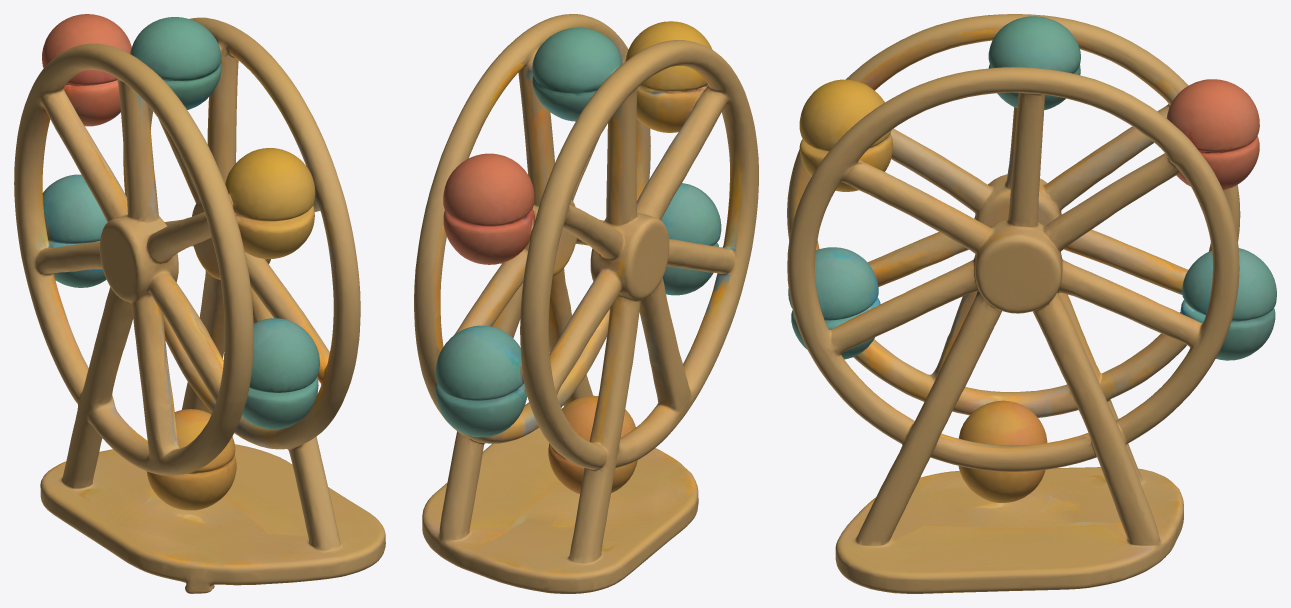
File: bigwheel.glb
The picture shows the model from 3 angles, left to right: view 1: azimuth 30°, elevation 25°; view 2: azimuth 150°, elevation 25°; view 3: azimuth 270°, elevation 25°; orthographic projection.
Parts seen in each view (by area): view 1: artef_node_332cdd01-4499-4cd5-a933-090dd720484e; view 2: artef_node_332cdd01-4499-4cd5-a933-090dd720484e; view 3: artef_node_332cdd01-4499-4cd5-a933-090dd720484e.
Part boxes in pixels (x1,y1,x2,y2): artef_node_332cdd01-4499-4cd5-a933-090dd720484e: [14, 14, 385, 593]; artef_node_332cdd01-4499-4cd5-a933-090dd720484e: [414, 14, 758, 593]; artef_node_332cdd01-4499-4cd5-a933-090dd720484e: [787, 14, 1276, 593].
Bounding box in the file's own units: 0.4367 × 0.9493 × 0.8169.
Materials: 1 (1 with a texture image).
